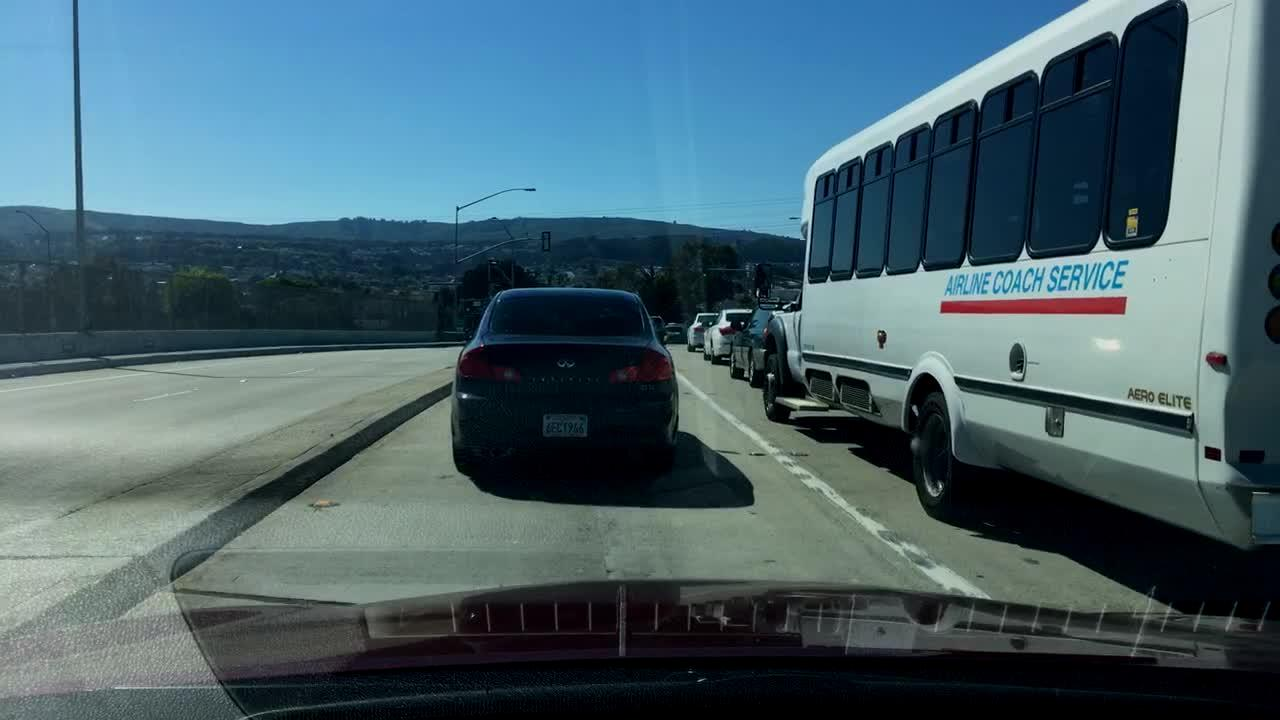Infiniti: (547, 348, 585, 375)
